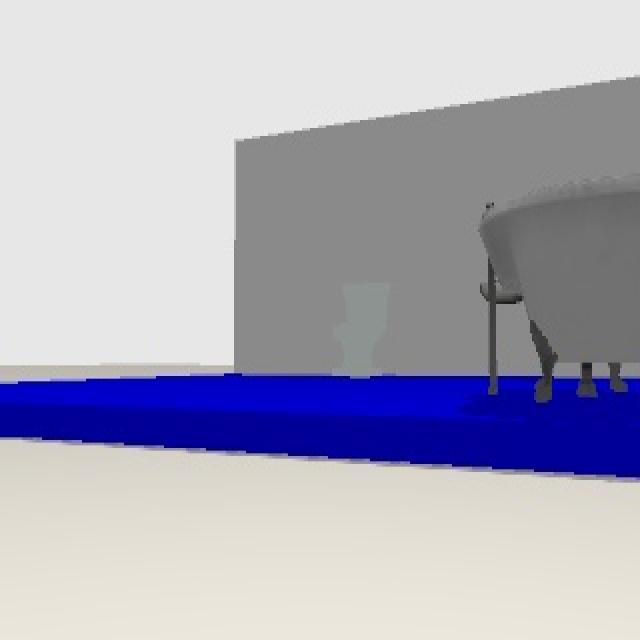bathtub: (474, 192, 640, 400)
